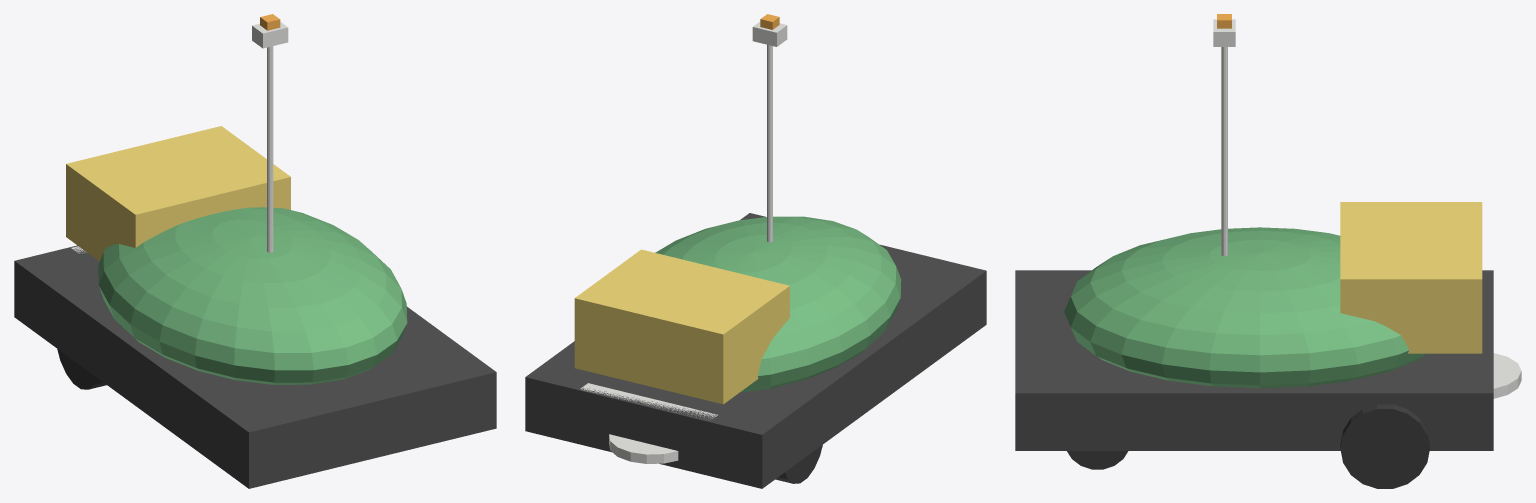
The model's file is tractor.glb.
3 renders of one model, left to right at view 1: azimuth 30°, elevation 25°; view 2: azimuth 150°, elevation 25°; view 3: azimuth 270°, elevation 25°, orthographic. The views are drawn at different scales.
Parts seen in each view (by area): view 1: RobotFertilizer; view 2: RobotFertilizer; view 3: RobotFertilizer.
Part boxes in pixels (x1,y1,x2,y2): RobotFertilizer: [14, 14, 496, 488]; RobotFertilizer: [525, 14, 986, 488]; RobotFertilizer: [1015, 14, 1521, 488].
Size of the model in its own units: 1.62 by 2.4 by 2.71.
